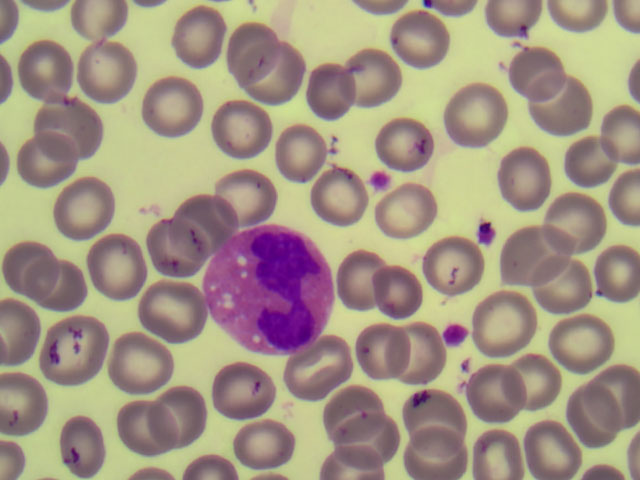Platelets: (473, 216, 499, 248), (442, 321, 467, 351), (366, 167, 391, 195)
RBC: (401, 412, 463, 480), (522, 412, 584, 480), (475, 412, 537, 480), (78, 34, 140, 101), (16, 37, 78, 104), (30, 79, 92, 146), (15, 125, 77, 192), (51, 174, 113, 241), (86, 227, 148, 294), (35, 253, 97, 320), (6, 234, 68, 301), (45, 310, 107, 377), (2, 380, 64, 447), (48, 409, 110, 476), (109, 397, 171, 464), (147, 386, 209, 453), (102, 325, 164, 392), (147, 281, 209, 348), (146, 214, 208, 281), (169, 188, 231, 255), (220, 156, 282, 223), (214, 100, 276, 167), (147, 73, 209, 140), (169, 2, 231, 69), (215, 22, 277, 89), (251, 35, 313, 102), (291, 62, 353, 129), (340, 46, 402, 113), (395, 12, 457, 79), (442, 78, 504, 145), (370, 106, 432, 173), (305, 162, 367, 229), (273, 125, 335, 192), (388, 177, 450, 244), (324, 247, 386, 314), (359, 252, 421, 319), (420, 236, 482, 303), (387, 318, 449, 385), (356, 314, 418, 381), (291, 332, 353, 399), (206, 351, 268, 418), (229, 404, 291, 471), (319, 375, 381, 442), (330, 409, 392, 476), (406, 387, 468, 454), (462, 356, 524, 423), (514, 356, 576, 423), (473, 292, 535, 359), (497, 216, 559, 283), (538, 190, 600, 257), (495, 149, 557, 216), (565, 129, 627, 196), (578, 103, 640, 170), (537, 82, 599, 149), (505, 42, 567, 109), (578, 237, 640, 304), (534, 257, 596, 324), (554, 313, 616, 380), (578, 346, 640, 413), (560, 384, 622, 451)
WBC: (207, 223, 336, 358)
